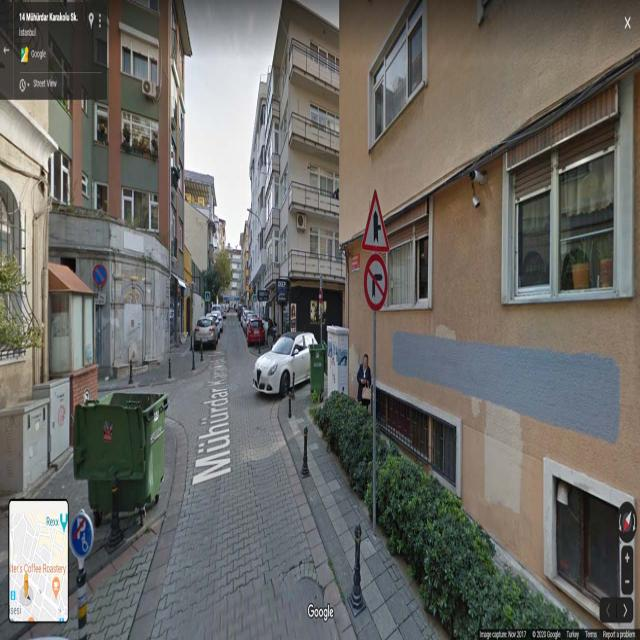parkyasak: (91, 261, 107, 289)
sagadonulmez: (363, 254, 387, 311)
